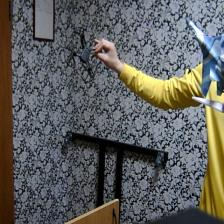drone: (61, 22, 112, 86)
